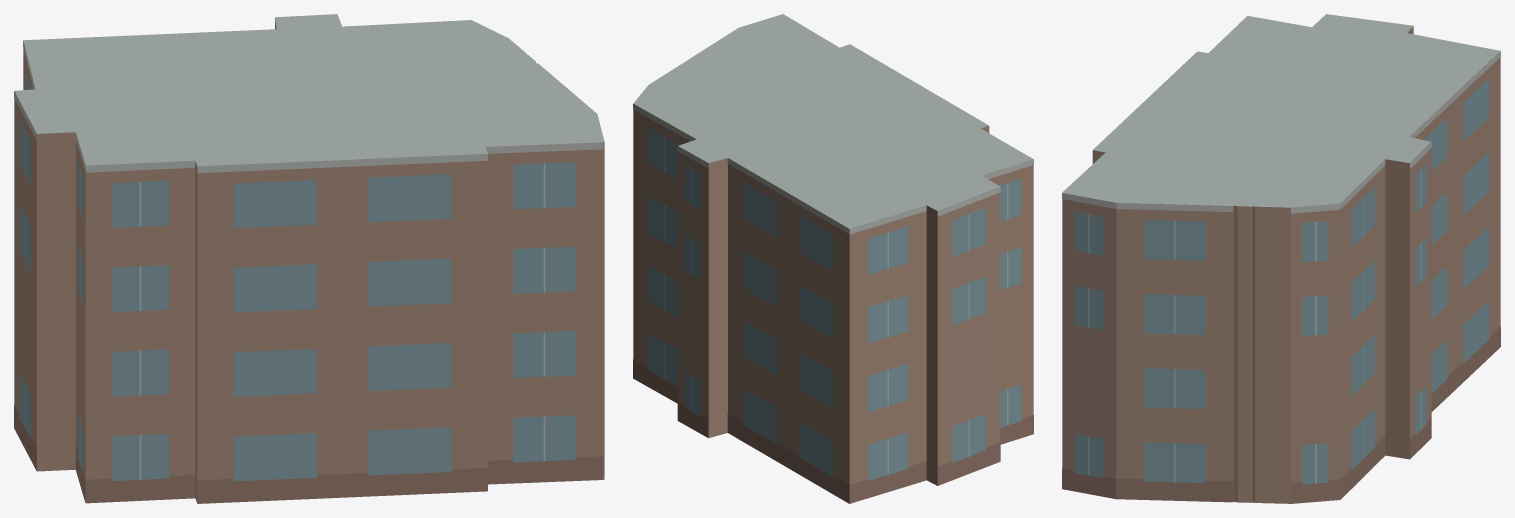
File: survey-upis-33029626.glb
3 renders of one model, left to right at view 1: azimuth 30°, elevation 25°; view 2: azimuth 150°, elevation 25°; view 3: azimuth 270°, elevation 25°, orthographic. The views are drawn at different scales.
Parts seen in each view (by area): view 1: survey-upis-33029626.tmp; view 2: survey-upis-33029626.tmp; view 3: survey-upis-33029626.tmp.
Part boxes in pixels (left/top/right/bottom): survey-upis-33029626.tmp: left=14, top=14, right=604, bottom=503; survey-upis-33029626.tmp: left=633, top=14, right=1033, bottom=503; survey-upis-33029626.tmp: left=1062, top=14, right=1500, bottom=503.
Bounding box in the file's own units: 16.59 × 11.83 × 15.87.
